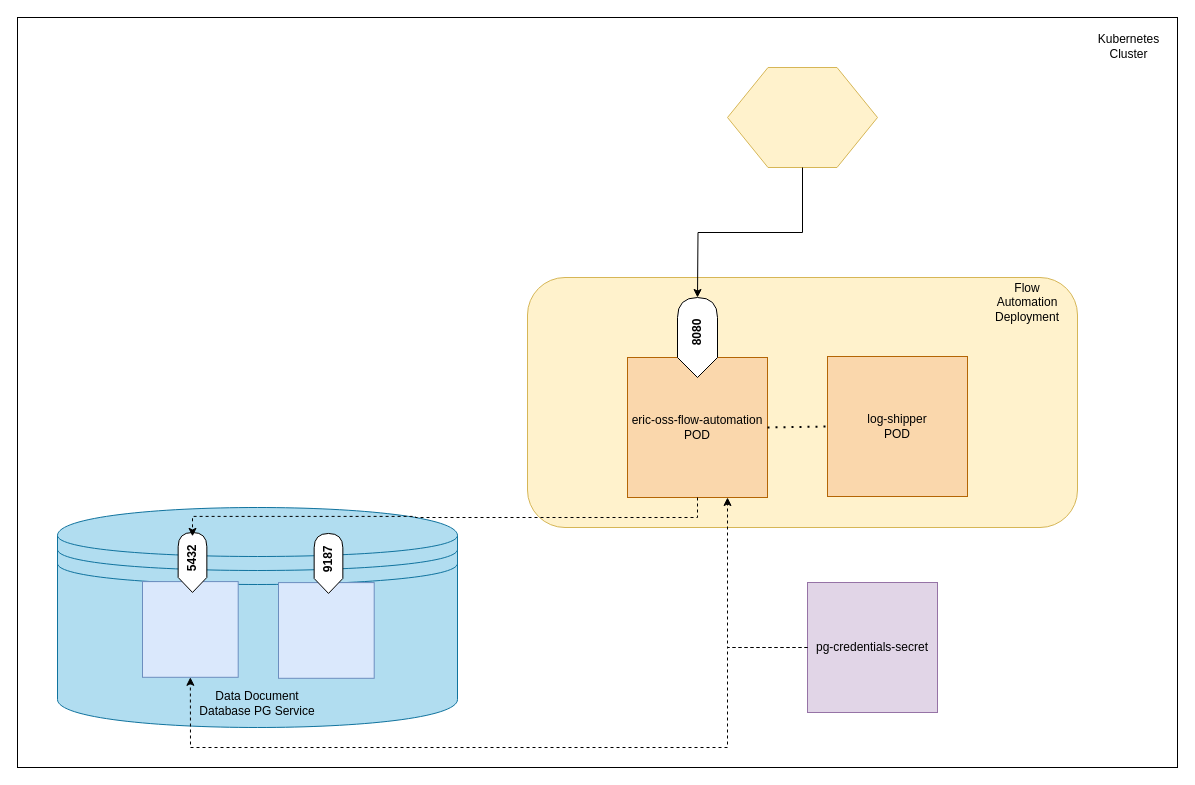
The diagram is 1195 pixels wide and 785 high, and some of its shapes have lost their labels. The shapes that lost their labels are listed below. From the top down, each one's centre as x and y in pixels, then its label:
[802,117]: Flow Automation Service
[190,629]: eric-oss-flow-automation-db-pg POD
[326,630]: eric-oss-flow-automation-db-pg-metrics POD
